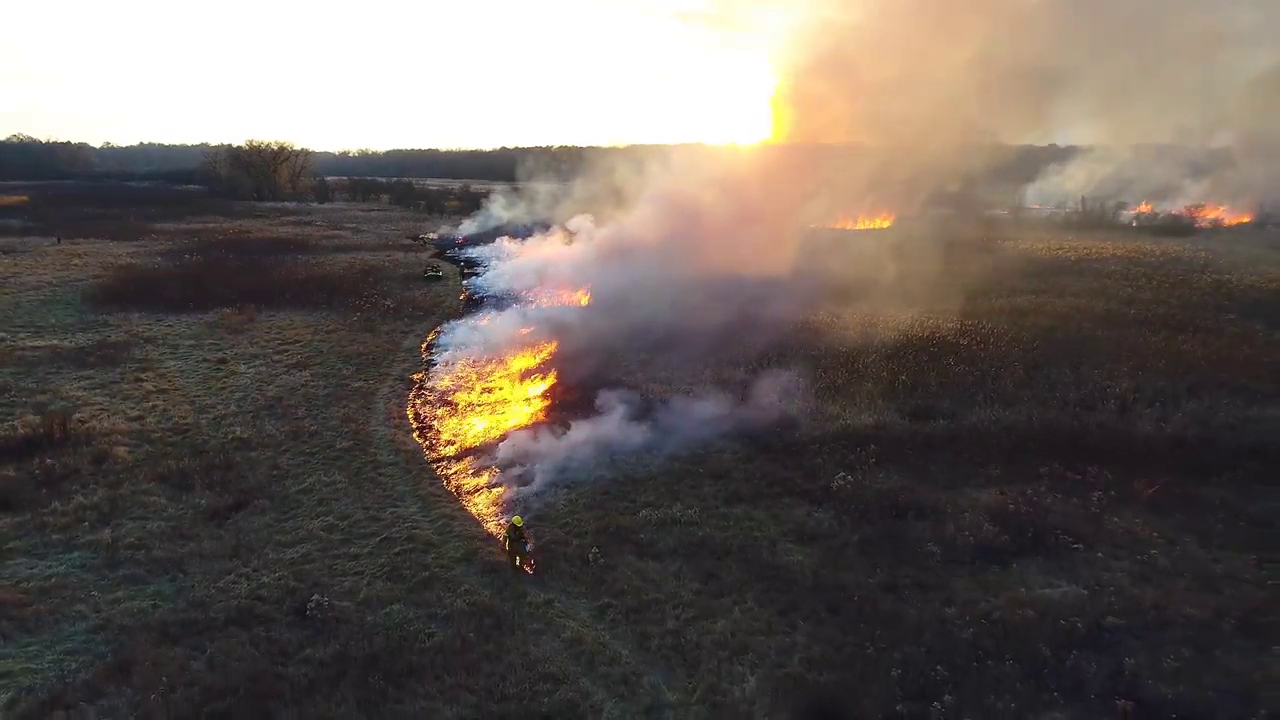forest_fire: (407, 326, 559, 536), (1124, 201, 1254, 228), (534, 288, 590, 308), (818, 216, 894, 229)
